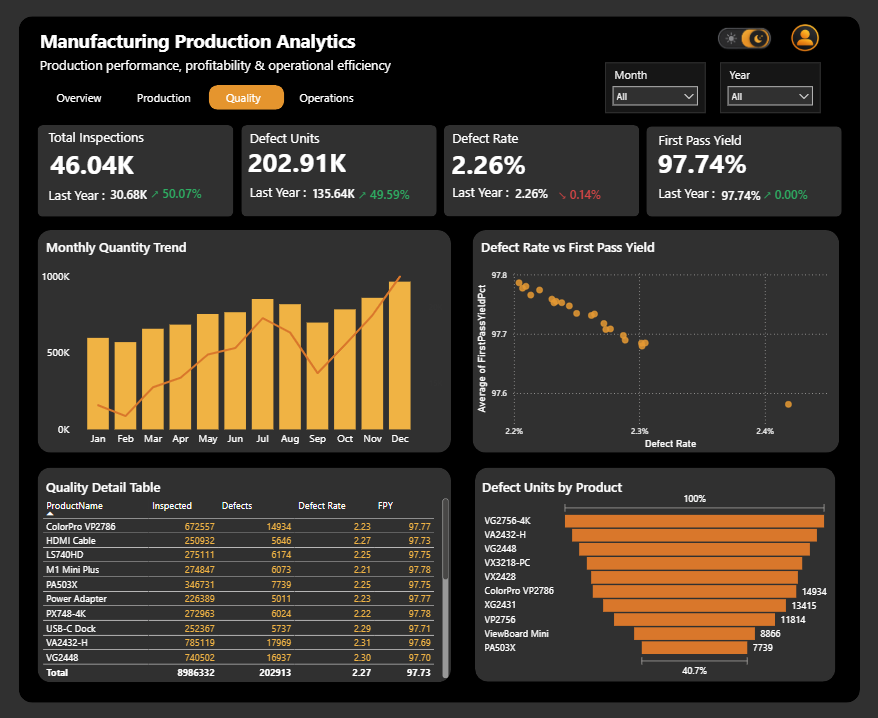

The page's visual inventory and layout, read from the dashboard file:
{"tool":"powerbi","page":{"name":"Quality Analysis-Dark","canvas":[1280,1050],"ordinal":6},"visuals":[{"type":"shape","box":[0,0,1279.9,1050],"z":0},{"type":"shape","box":[34.1,29.8,1211.8,989],"z":1000},{"type":"textbox","box":[58.8,42.8,499.3,64.2],"z":2000},{"type":"textbox","box":[58.8,82,533.2,48.1],"z":3000},{"type":"cardVisual","fields":{"Data":["3 Quality Measures.Total Inspections"]},"box":[49.9,199.1,212.2,85.1],"z":3000,"group":"g4"},{"type":"shape","box":[60.2,187.2,282.1,132.3],"z":4000,"group":"g3"},{"type":"group","id":"g1","title":"Group 11","box":[627.7,187.2,299.6,132],"z":4000},{"type":"cardVisual","fields":{"Data":["3 Quality Measures.Defect Units"]},"box":[335.2,197.8,251.4,83.8],"z":4000,"group":"g6"},{"type":"cardVisual","fields":{"Data":["3 Quality Measures.Defect Rate"]},"box":[627.7,202.3,200,79.8],"z":4000,"group":"g7"},{"type":"textbox","box":[950.6,190.8,238.8,41.2],"z":4500,"group":"g8"},{"type":"group","id":"g2","title":"Group 12","box":[925.7,189,294.1,130.2],"z":5000},{"type":"cardVisual","fields":{"Data":["3 Quality Measures.First Pass Yield"]},"box":[925.7,196.5,233.6,87.4],"z":5000,"group":"g8"},{"type":"textbox","box":[950.6,268.3,123.1,37.5],"z":5500,"group":"g8"},{"type":"shape","box":[308.5,130.2,108.8,35.7],"z":6000},{"type":"cardVisual","fields":{"Data":["3 Quality Measures.First Pass Yield YoY Display"]},"box":[1077.2,252.7,140.8,66.1],"z":6000,"group":"g8"},{"type":"cardVisual","fields":{"Data":["3 Quality Measures.First Pass Yield LY"]},"box":[1017.9,253.6,130.6,65.6],"z":6500,"group":"g8"},{"type":"shape","title":"Executive ","box":[62.4,123,115.9,48.1],"z":7000},{"type":"shape","box":[354.7,187.2,281.8,132],"z":7000,"group":"g5"},{"type":"shape","box":[645.3,187.2,281.8,132],"z":7000,"group":"g1"},{"type":"shape","title":"Executive ","box":[178.3,123,130.2,48.1],"z":8000},{"type":"shape","box":[938,189,281.8,130.2],"z":8000,"group":"g2"},{"type":"shape","title":"Executive ","box":[294.2,123,128.4,48.1],"z":9000},{"type":"group","id":"g3","title":"Group 10","box":[49.9,187.2,292.5,133.7],"z":10000},{"type":"cardVisual","fields":{"Data":["3 Quality Measures.Total Inspections LY"]},"box":[136.2,252.3,136,68.7],"z":10000,"group":"g4"},{"type":"cardVisual","fields":{"Data":["3 Quality Measures.Defect Units LY"]},"box":[428.3,252.4,143.2,65.7],"z":11000,"group":"g6"},{"type":"cardVisual","fields":{"Data":["3 Quality Measures.Defect Rate LY"]},"box":[718.9,252.4,143.2,65.7],"z":11000,"group":"g7"},{"type":"shape","box":[60.6,338.8,595.6,321],"z":11000},{"type":"group","id":"g4","title":"Group 1","box":[49.9,187.2,289.3,133.7],"z":12000,"group":"g3"},{"type":"group","id":"g5","title":"Group 11","box":[335.2,187.2,305.1,132],"z":12000},{"type":"cardVisual","fields":{"Data":["3 Quality Measures.Total Inspections YoY Display"]},"box":[193.3,251,145.9,69.8],"z":13000,"group":"g4"},{"type":"lineClusteredColumnComboChart","fields":{"Category":["Dim_Date.MonthShort"],"Y":["Sum(Fact_Quality.InspectedQuantity)"],"Y2":["Sum(Fact_Quality.DefectiveQuantity)"]},"box":[62,388.8,593.8,271.1],"z":13000},{"type":"group","id":"g6","title":"Group 3","box":[335.2,189,305.1,129.7],"z":14000,"group":"g5"},{"type":"group","id":"g7","title":"Group 3","box":[627.7,189,299.6,128.3],"z":14000,"group":"g1"},{"type":"cardVisual","fields":{"Data":["3 Quality Measures.Defect Units YoY Display"]},"box":[493,251.9,147.3,66.8],"z":14000,"group":"g6"},{"type":"cardVisual","fields":{"Data":["3 Quality Measures.Defect Rate YoY Display"]},"box":[780,252.4,147.3,66.8],"z":14000,"group":"g7"},{"type":"shape","box":[688.4,338.8,528.1,321],"z":14000},{"type":"scatterChart","fields":{"Category":["Dim_Product.ProductName"],"X":["3 Quality Measures.Defect Rate"],"Y":["Avg(Fact_Quality.FirstPassYieldPct)"]},"box":[688.4,388.8,529.6,271.1],"z":15000},{"type":"shape","box":[691.7,681.2,519.2,308.5],"z":16000},{"type":"shape","box":[60.6,681.2,595.6,309.4],"z":17000},{"type":"textbox","box":[71.9,187.2,228.3,43.5],"z":18000,"group":"g4"},{"type":"funnel","fields":{"Category":["Dim_Product.ProductName"],"Y":["Sum(Fact_Quality.DefectiveQuantity)"]},"box":[700,711.5,504,276],"z":18000},{"type":"tableEx","fields":{"Values":["Dim_Product.ProductName","Sum(Fact_Quality.InspectedQuantity)","Sum(Fact_Quality.DefectiveQuantity)","Avg(Fact_Quality.DefectRatePct)","Avg(Fact_Quality.FirstPassYieldPct)"]},"box":[62.4,720.5,595.6,269.3],"z":19000},{"type":"textbox","box":[72,269.2,117.7,39.6],"z":20000,"group":"g4"},{"type":"textbox","box":[68.8,346,308.6,45.1],"z":20000},{"type":"textbox","box":[695.5,346,349.5,44.6],"z":21000},{"type":"textbox","box":[691.7,691.2,317.2,41.7],"z":22000},{"type":"textbox","box":[68.2,691.3,359.3,41.8],"z":23000},{"type":"shape","title":"Executive ","box":[424,123,108.8,48.1],"z":24000},{"type":"image","box":[990,18,178,90],"z":25000},{"type":"image","box":[1125,34,83,57],"z":26000},{"type":"slicer","fields":{"Values":["Dim_Date.Year"]},"box":[1045,98.1,144.4,73.1],"z":27000},{"type":"textbox","box":[362.6,189,236.5,41.7],"z":27000,"group":"g6"},{"type":"textbox","box":[653.3,189,236.5,41.7],"z":27000,"group":"g7"},{"type":"group","id":"g8","title":"Group 2","box":[925.7,190.8,292.3,128.4],"z":27500,"group":"g2"},{"type":"slicer","fields":{"Values":["Dim_Date.MonthShort"]},"box":[879.2,98.1,144.4,73.1],"z":28000},{"type":"textbox","box":[361.9,267.3,122,37.9],"z":28000,"group":"g6"},{"type":"textbox","box":[652.6,267.3,122,37.9],"z":28000,"group":"g7"},{"type":"actionButton","box":[1040,42.8,38,39.2],"z":29000}]}

Visuals, with their boxes in screenshot pixels (x1, y1, x2, y2), scaled from the page's 1280x1050 canvas onto the 878x718 screenshot:
shape: BBox(0, 0, 877, 717)
shape: BBox(23, 20, 855, 697)
textbox: BBox(40, 29, 383, 73)
textbox: BBox(40, 56, 406, 89)
cardVisual - 3 Quality Measures.Total Inspections: BBox(34, 136, 180, 194)
shape: BBox(41, 128, 235, 218)
"Group 11" group: BBox(431, 128, 636, 218)
cardVisual - 3 Quality Measures.Defect Units: BBox(230, 135, 402, 193)
cardVisual - 3 Quality Measures.Defect Rate: BBox(431, 138, 568, 193)
textbox: BBox(652, 130, 816, 159)
"Group 12" group: BBox(635, 129, 837, 218)
cardVisual - 3 Quality Measures.First Pass Yield: BBox(635, 134, 795, 194)
textbox: BBox(652, 183, 736, 209)
shape: BBox(212, 89, 286, 113)
cardVisual - 3 Quality Measures.First Pass Yield YoY Display: BBox(739, 173, 835, 218)
cardVisual - 3 Quality Measures.First Pass Yield LY: BBox(698, 173, 788, 218)
"Executive " shape: BBox(43, 84, 122, 117)
shape: BBox(243, 128, 437, 218)
shape: BBox(443, 128, 636, 218)
"Executive " shape: BBox(122, 84, 212, 117)
shape: BBox(643, 129, 837, 218)
"Executive " shape: BBox(202, 84, 290, 117)
"Group 10" group: BBox(34, 128, 235, 219)
cardVisual - 3 Quality Measures.Total Inspections LY: BBox(93, 173, 187, 220)
cardVisual - 3 Quality Measures.Defect Units LY: BBox(294, 173, 392, 218)
cardVisual - 3 Quality Measures.Defect Rate LY: BBox(493, 173, 591, 218)
shape: BBox(42, 232, 450, 451)
"Group 1" group: BBox(34, 128, 233, 219)
"Group 11" group: BBox(230, 128, 439, 218)
cardVisual - 3 Quality Measures.Total Inspections YoY Display: BBox(133, 172, 233, 219)
lineClusteredColumnComboChart - Dim_Date.MonthShort x Sum(Fact_Quality.InspectedQuantity): BBox(43, 266, 450, 451)
"Group 3" group: BBox(230, 129, 439, 218)
"Group 3" group: BBox(431, 129, 636, 217)
cardVisual - 3 Quality Measures.Defect Units YoY Display: BBox(338, 172, 439, 218)
cardVisual - 3 Quality Measures.Defect Rate YoY Display: BBox(535, 173, 636, 218)
shape: BBox(472, 232, 834, 451)
scatterChart - Dim_Product.ProductName x 3 Quality Measures.Defect Rate: BBox(472, 266, 835, 451)
shape: BBox(474, 466, 831, 677)
shape: BBox(42, 466, 450, 677)
textbox: BBox(49, 128, 206, 158)
funnel - Dim_Product.ProductName x Sum(Fact_Quality.DefectiveQuantity): BBox(480, 487, 826, 675)
tableEx - Dim_Product.ProductName x Sum(Fact_Quality.InspectedQuantity): BBox(43, 493, 451, 677)
textbox: BBox(49, 184, 130, 211)
textbox: BBox(47, 237, 259, 267)
textbox: BBox(477, 237, 717, 267)
textbox: BBox(474, 473, 692, 501)
textbox: BBox(47, 473, 293, 501)
"Executive " shape: BBox(291, 84, 365, 117)
image: BBox(679, 12, 801, 74)
image: BBox(772, 23, 829, 62)
slicer - Dim_Date.Year: BBox(717, 67, 816, 117)
textbox: BBox(249, 129, 411, 158)
textbox: BBox(448, 129, 610, 158)
"Group 2" group: BBox(635, 130, 835, 218)
slicer - Dim_Date.MonthShort: BBox(603, 67, 702, 117)
textbox: BBox(248, 183, 332, 209)
textbox: BBox(448, 183, 531, 209)
actionButton: BBox(713, 29, 739, 56)
